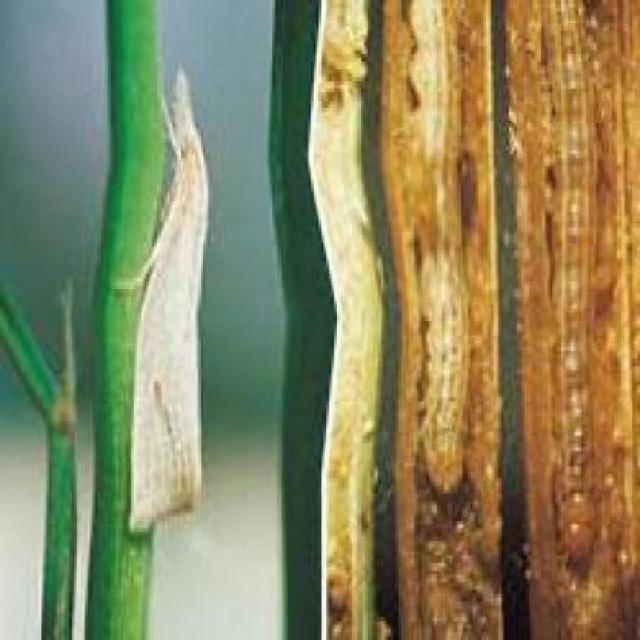stem-borer: (112, 63, 212, 542)
